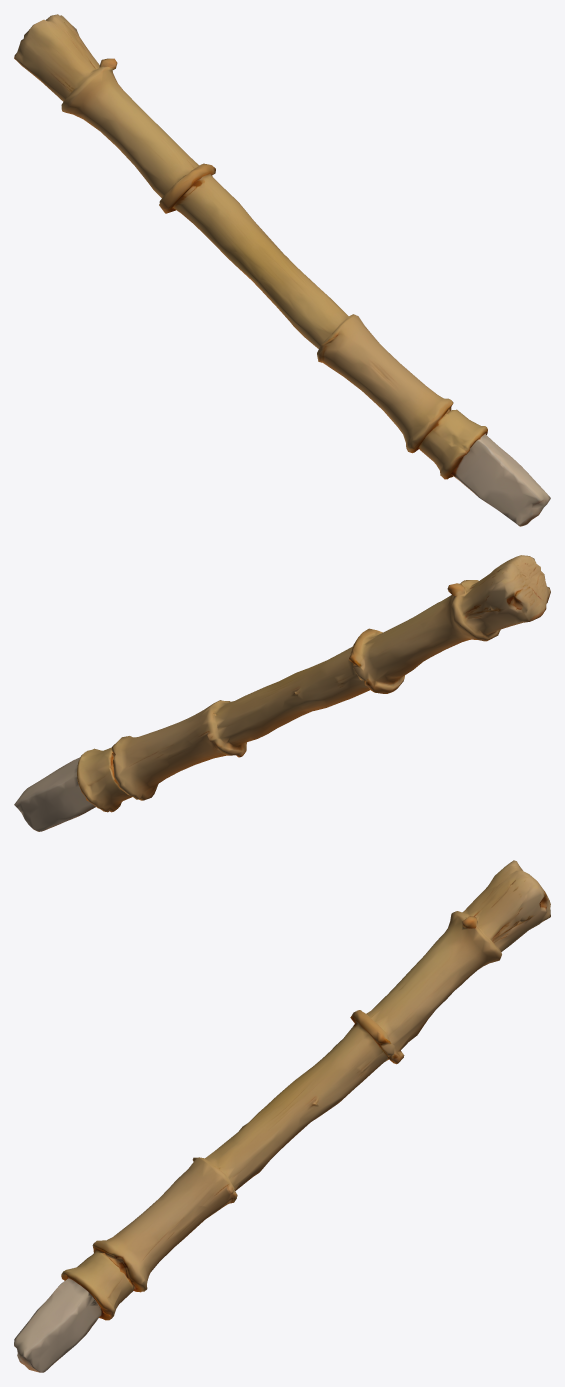
Rendered from bamboo_pick.glb.
3 renders of one model, top to bottom at view 1: azimuth 30°, elevation 25°; view 2: azimuth 210°, elevation 25°; view 3: azimuth 270°, elevation 25°, orthographic.
Parts seen in each view (by area): view 1: tripo_node_114dc467-7437-41d8-8c39-778755062d75; view 2: tripo_node_114dc467-7437-41d8-8c39-778755062d75; view 3: tripo_node_114dc467-7437-41d8-8c39-778755062d75.
Boxes of the visible parts, bbox=[...] form: tripo_node_114dc467-7437-41d8-8c39-778755062d75: bbox=[14, 14, 550, 526]; tripo_node_114dc467-7437-41d8-8c39-778755062d75: bbox=[14, 555, 550, 831]; tripo_node_114dc467-7437-41d8-8c39-778755062d75: bbox=[14, 860, 550, 1372].
Size of the model in its own units: 0.6213 by 0.8025 by 1.
1 material, 1 textured.
